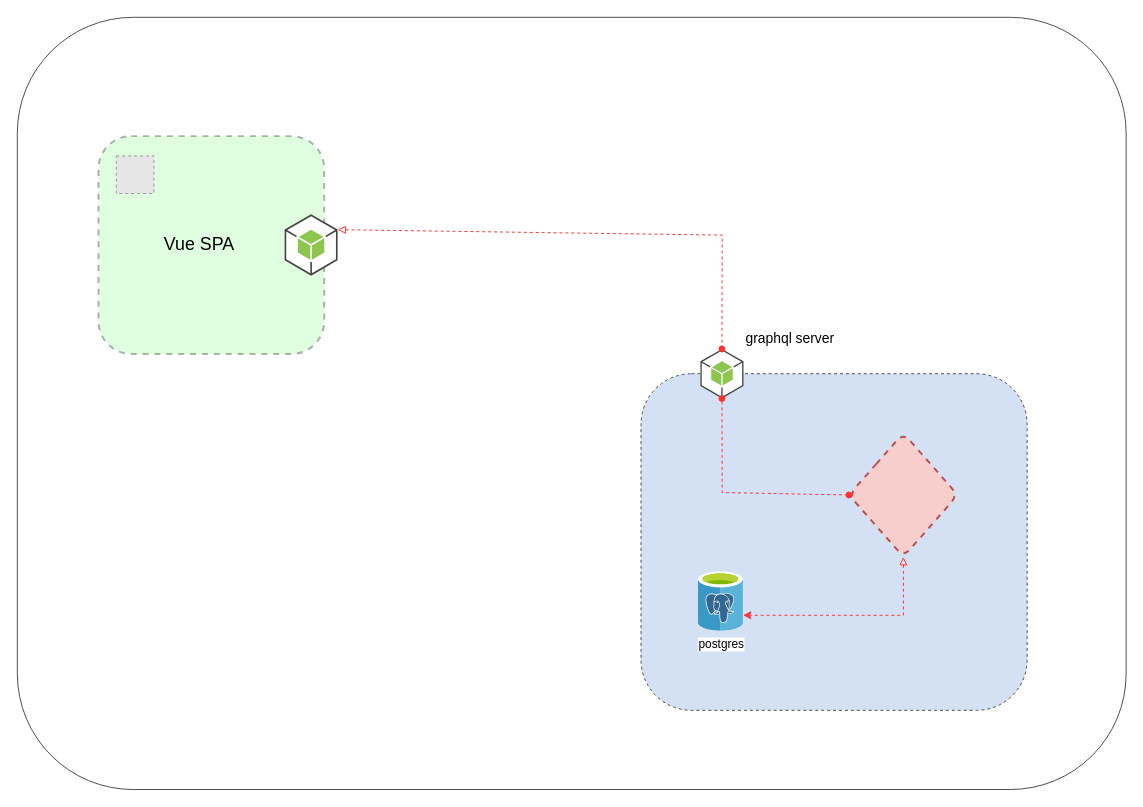
Some shapes in this 1143 by 807 pixel diagram are drawn without their labels. Grey dashed boxes stand in for pictures. The shapes that lost their labels are listed below. From the top down, each one's box as (x1, y1, x2, y2) in pixels, then its label:
(283, 213, 338, 276): graphql client
(847, 432, 958, 557): Prisma ORM
